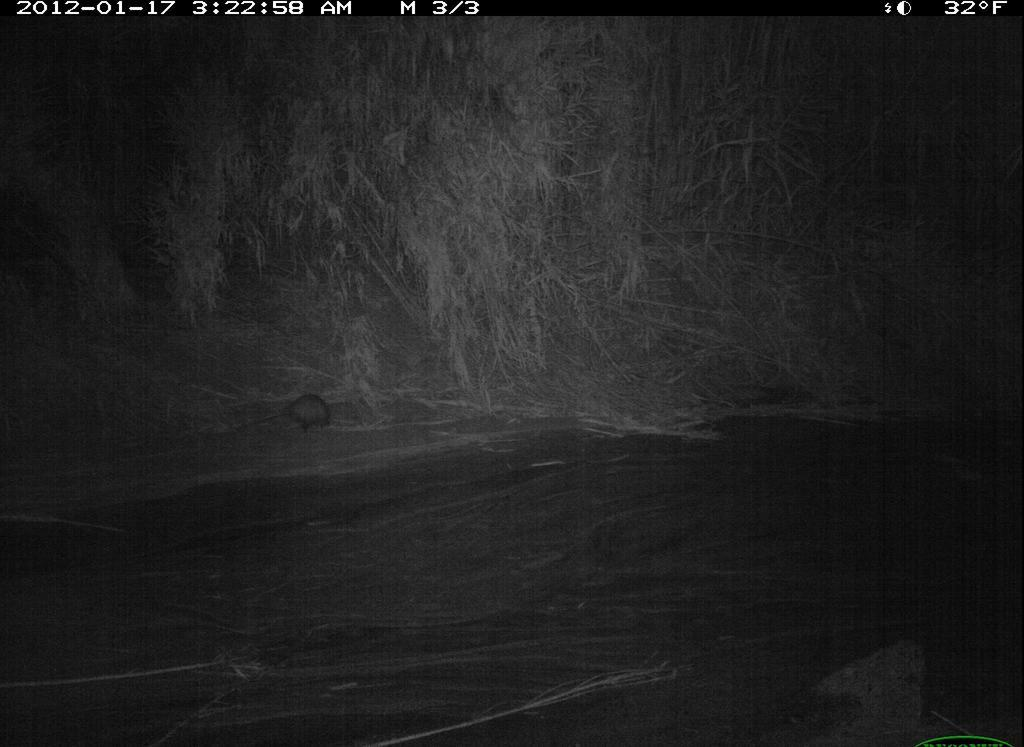opossum: (276, 392, 332, 434)
